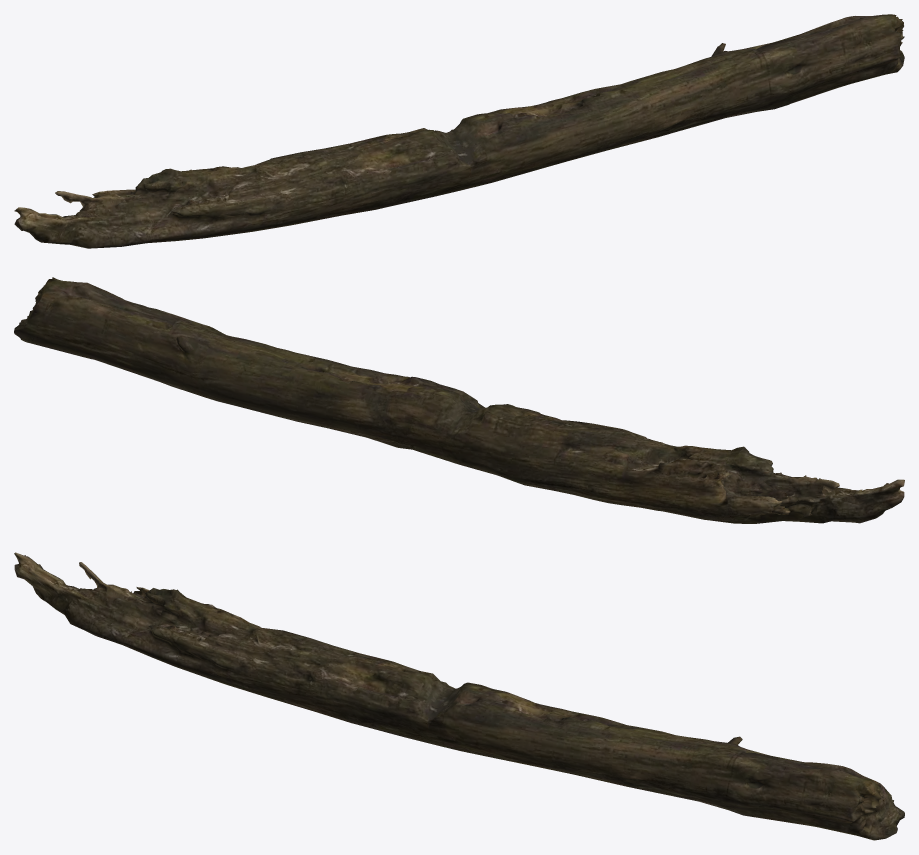
File: dead_tree_trunk.glb
3 views of the same model, one above another, from view 1: azimuth 30°, elevation 25°; view 2: azimuth 150°, elevation 25°; view 3: azimuth 330°, elevation 25° (orthographic).
Parts seen in each view (by area): view 1: dead_tree_trunk; view 2: dead_tree_trunk; view 3: dead_tree_trunk.
Boxes of the visible parts, left/top/right/bottom form: dead_tree_trunk: left=14, top=14, right=904, bottom=248; dead_tree_trunk: left=14, top=277, right=904, bottom=523; dead_tree_trunk: left=14, top=552, right=904, bottom=840.
Bounding box in the file's own units: 3.05 × 0.2899 × 0.2774.
1 material, 1 textured.
